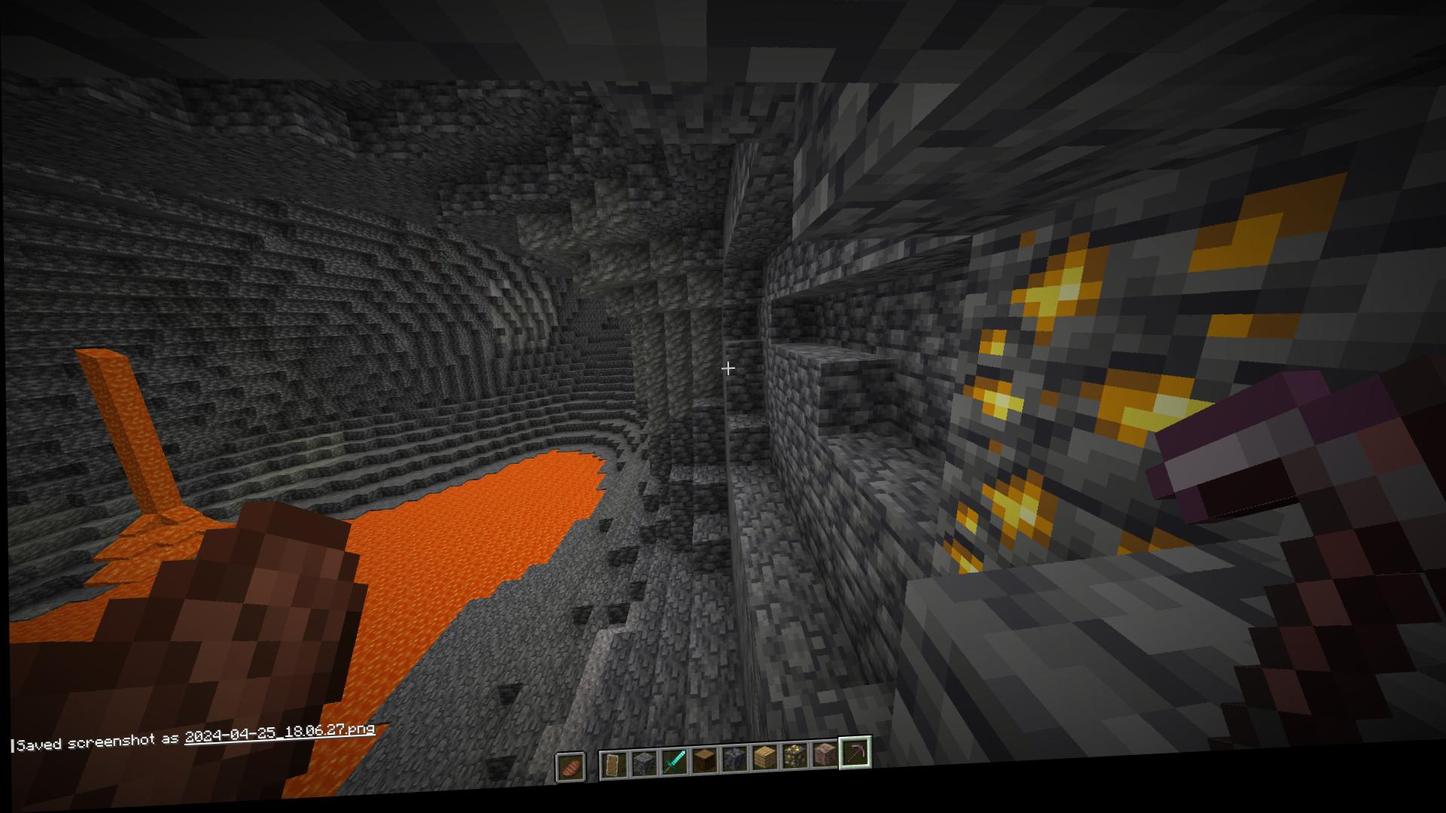gold ore: (1103, 170, 1333, 448), (953, 225, 1138, 446), (925, 398, 1051, 584), (1054, 448, 1183, 576)
